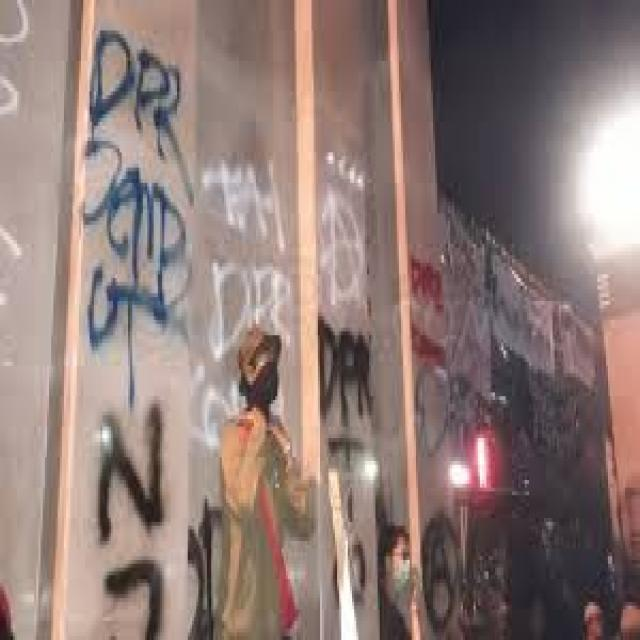-: (80, 31, 192, 401), (204, 162, 290, 448), (100, 406, 164, 640), (328, 431, 369, 606), (0, 2, 25, 260), (317, 318, 373, 421), (319, 189, 366, 309), (188, 491, 220, 640), (422, 504, 459, 632), (409, 251, 444, 366), (417, 370, 459, 450)
